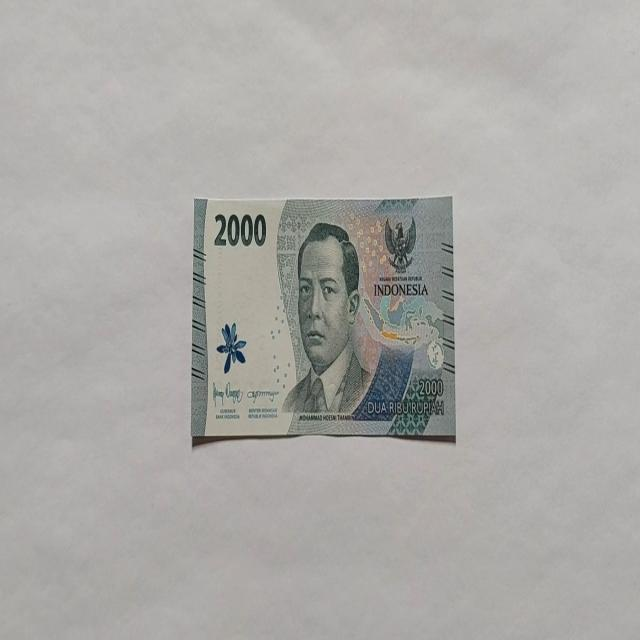dua ribu rupiah: (190, 194, 456, 444), (280, 220, 374, 417)
